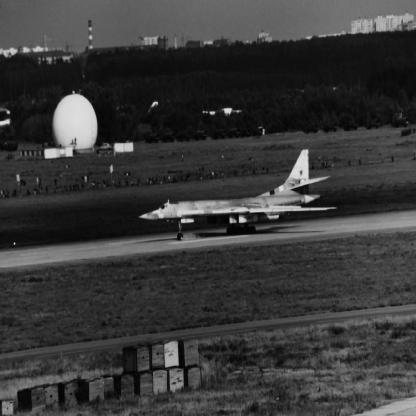Tu160: (139, 150, 339, 242)
